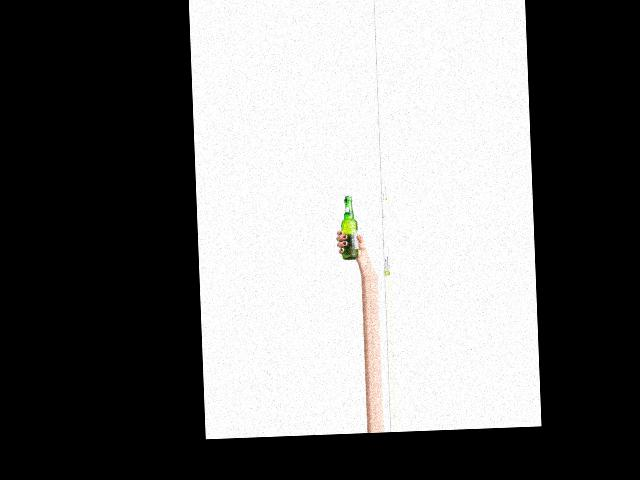beer: (340, 195, 359, 259)
